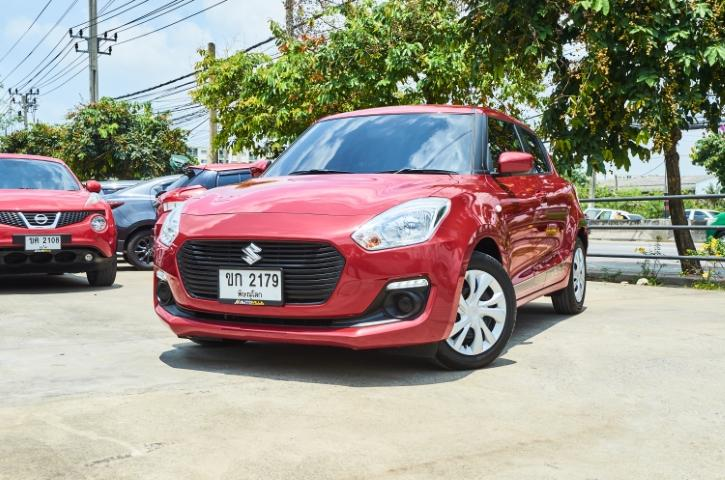license-plate: (217, 266, 286, 309), (24, 232, 62, 254)
